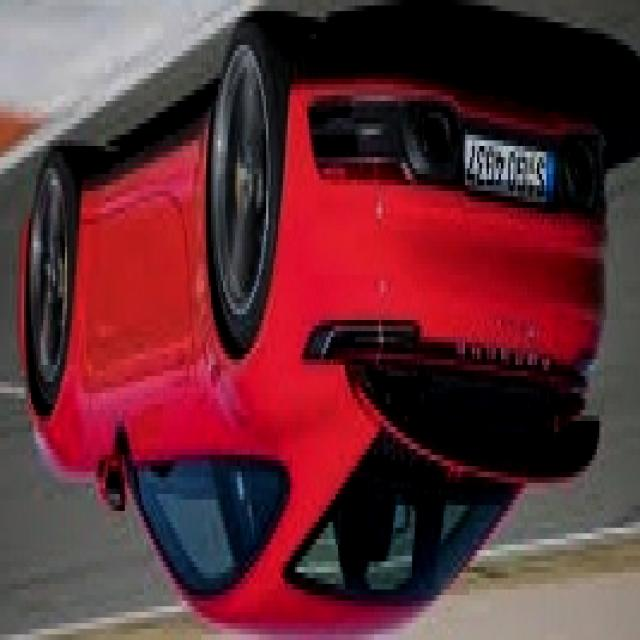red: (24, 84, 614, 640)
